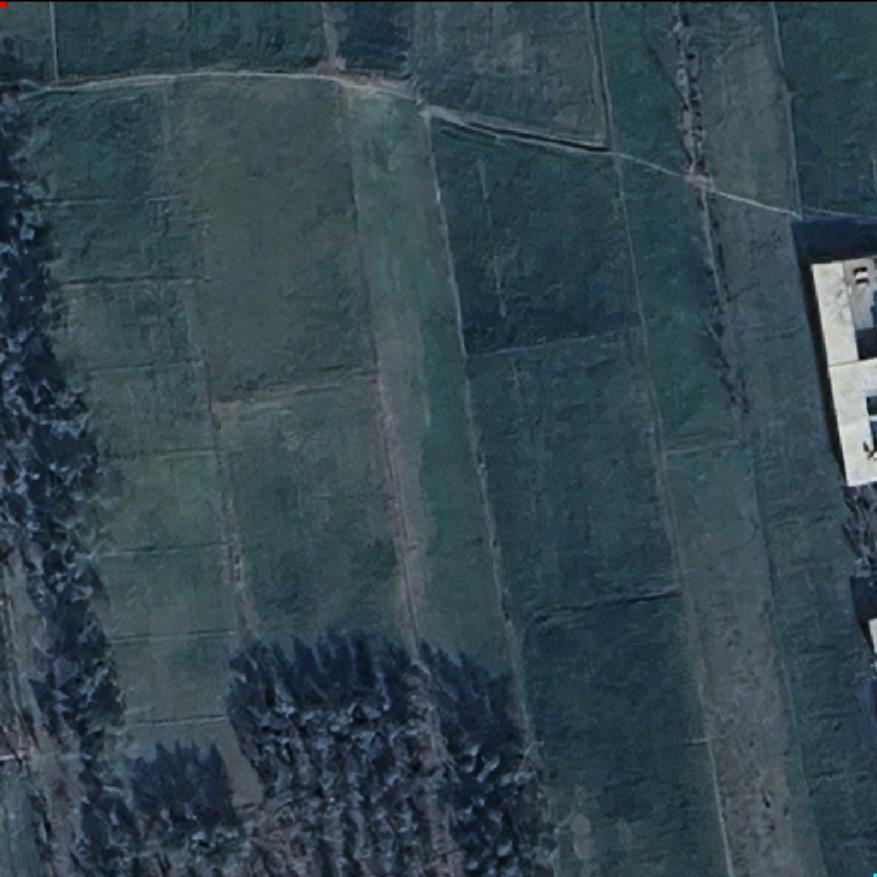Solarpanel: (865, 394, 877, 416)
